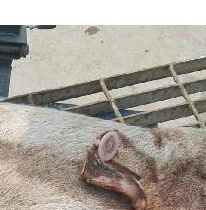text: (88, 123, 133, 169)
